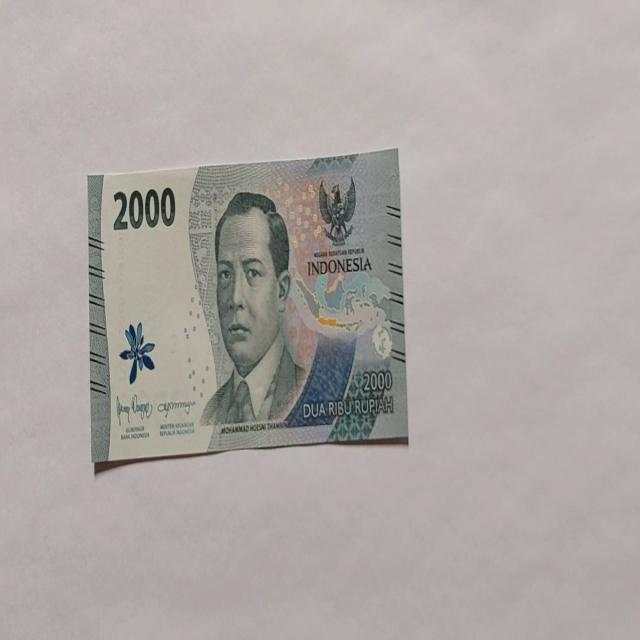dua ribu rupiah: (88, 147, 408, 466), (199, 190, 309, 428)
